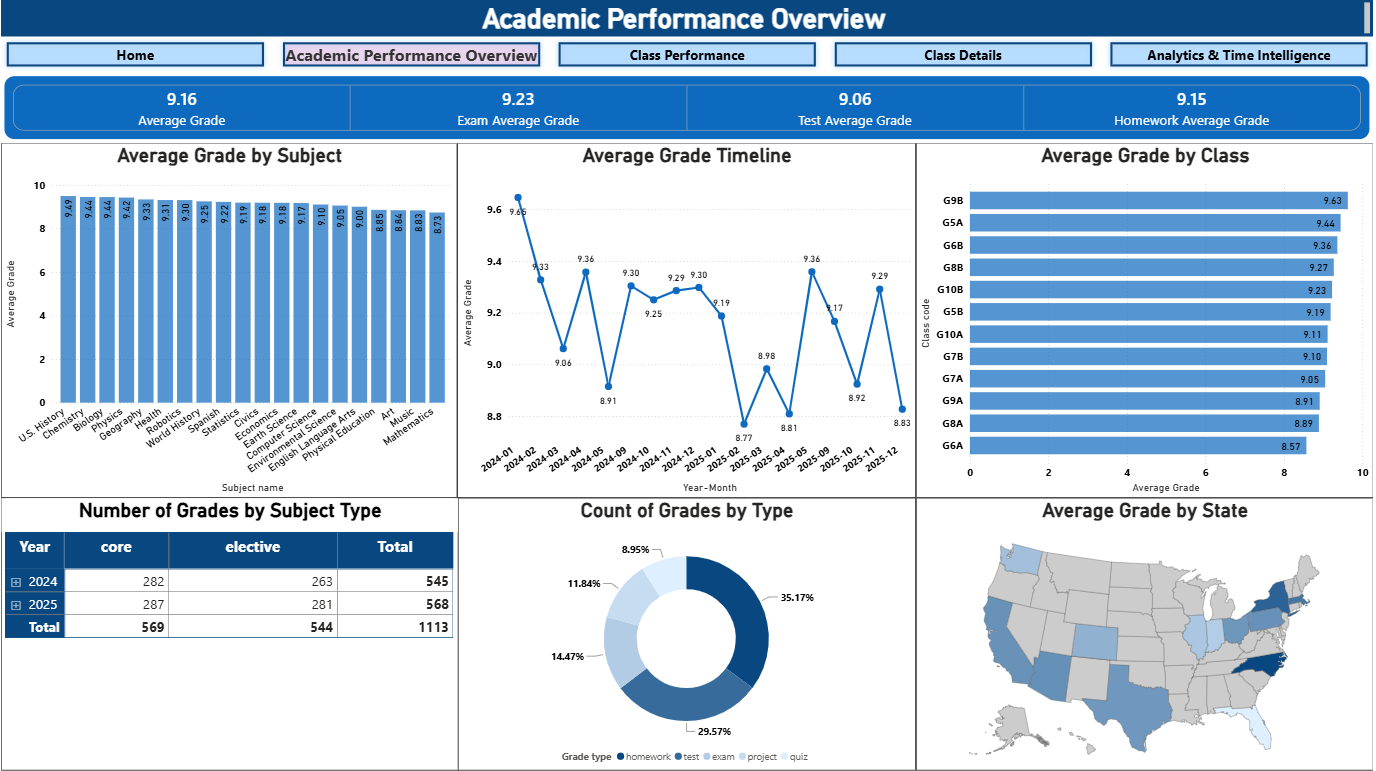

Layout of this report page (visuals, bound fields, positions):
{"tool":"powerbi","page":{"name":"Academic Performance Overview","canvas":[1920,1080],"ordinal":1},"visuals":[{"type":"textbox","box":[0,0,1920.4,53.5],"z":0},{"type":"shapeMap","title":" Average Grade by State","fields":{"Category":["students.state"],"Value":["Avg(grades.grade_value)"]},"box":[1280,698.3,640,381.7],"z":5000},{"type":"donutChart","title":"Count of Grades by Type","fields":{"Category":["grades.grade_type"],"Y":["CountNonNull(grades.grade_value)"]},"box":[638.3,698.3,641.7,381.7],"z":6000},{"type":"pivotTable","title":"Number of Grades by Subject Type","fields":{"Columns":["subjects.subject_type"],"Rows":["Calendar.Year Hierarchy.Year","Calendar.Year Hierarchy.Month Number"],"Values":["CountNonNull(grades.grade_value)"]},"box":[0,698.3,640,381.7],"z":7000},{"type":"columnChart","title":"Average Grade by Subject","fields":{"Category":["subjects.subject_name"],"Y":["Avg(grades.grade_value)"]},"box":[0,201.7,638.3,496.7],"z":8000},{"type":"lineChart","title":"Average Grade Timeline","fields":{"Category":["Calendar.YearMonth"],"Y":["Avg(grades.grade_value)"]},"box":[638.3,201.7,641.7,496.7],"z":9000},{"type":"barChart","title":"Average Grade by Class","fields":{"Category":["classes.class_code"],"Y":["Avg(grades.grade_value)"]},"box":[1280,201.7,640,496.7],"z":10000},{"type":"cardVisual","fields":{"Data":["_Measures.Average Grade","_Measures.Exam Average Grade","_Measures.Test Average Grade","_Measures.Homework Average Grade"]},"box":[0,103.3,1920,98],"z":10001},{"type":"pageNavigator","box":[0,53.3,1920,50],"z":10002}]}

Visuals, with their boxes in screenshot pixels (x1, y1, x2, y2), scaled from the page's 1920x1080 canvas onto the 1376x771 screenshot:
textbox: {"left": 0, "top": 0, "right": 1375, "bottom": 38}
" Average Grade by State" shapeMap: {"left": 917, "top": 499, "right": 1375, "bottom": 770}
"Count of Grades by Type" donutChart: {"left": 457, "top": 499, "right": 917, "bottom": 770}
"Number of Grades by Subject Type" pivotTable: {"left": 0, "top": 499, "right": 459, "bottom": 770}
"Average Grade by Subject" columnChart: {"left": 0, "top": 144, "right": 457, "bottom": 499}
"Average Grade Timeline" lineChart: {"left": 457, "top": 144, "right": 917, "bottom": 499}
"Average Grade by Class" barChart: {"left": 917, "top": 144, "right": 1375, "bottom": 499}
cardVisual - _Measures.Average Grade x _Measures.Exam Average Grade: {"left": 0, "top": 74, "right": 1375, "bottom": 144}
pageNavigator: {"left": 0, "top": 38, "right": 1375, "bottom": 74}
